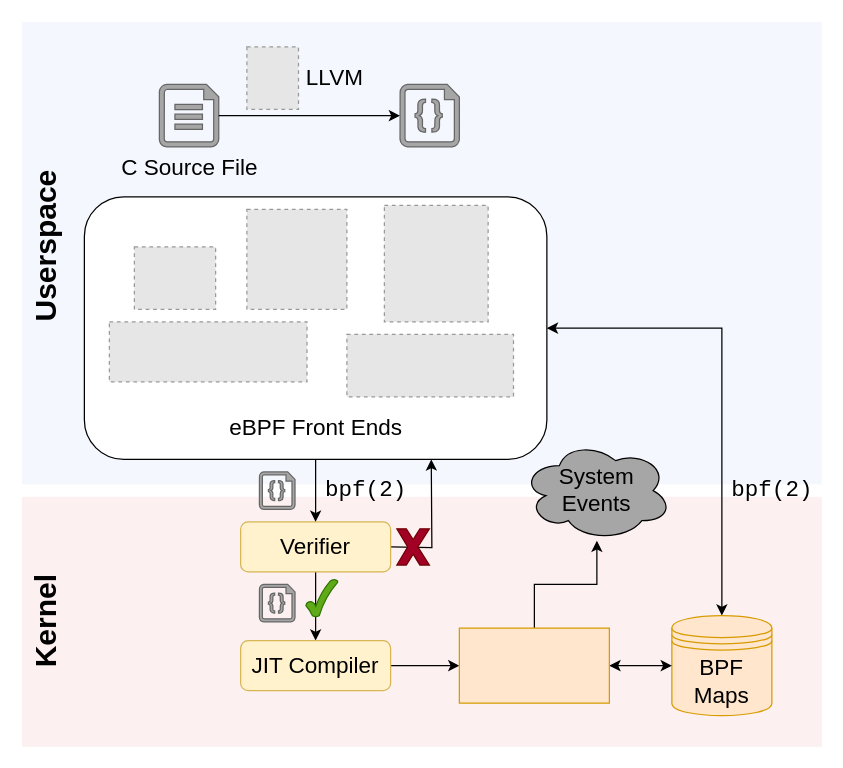
Image size: 843x768. Some labels were removed from this diagram. Grey dashed boxes stand in for pictures. Each missing label, with the centre of its shape:
"BPF Bytecode" belongs at [429,115].
"BPF Programs" belongs at [533,665].
